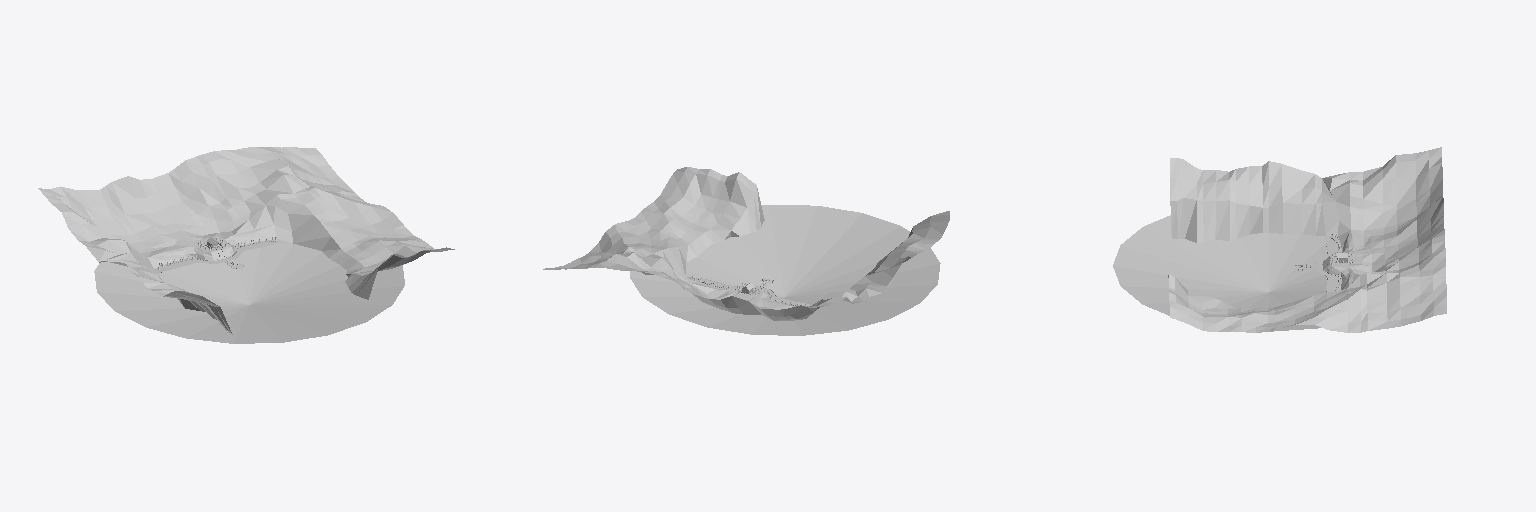
File: lakelake.obj
3 views of the same model, side by side, from view 1: azimuth 30°, elevation 25°; view 2: azimuth 150°, elevation 25°; view 3: azimuth 270°, elevation 25° (orthographic).
Visible parts, largest first — view 1: terrain1, pSphere1; view 2: pSphere1, terrain1; view 3: terrain1, pSphere1.
Boxes of the visible parts, x1,y1,x2,y2 form: terrain1: [38, 147, 454, 334]; pSphere1: [94, 243, 404, 343]; pSphere1: [630, 205, 940, 335]; terrain1: [543, 167, 949, 320]; terrain1: [1168, 147, 1446, 332]; pSphere1: [1113, 215, 1326, 331].
Bounding box in the file's own units: 514 × 141 × 507.